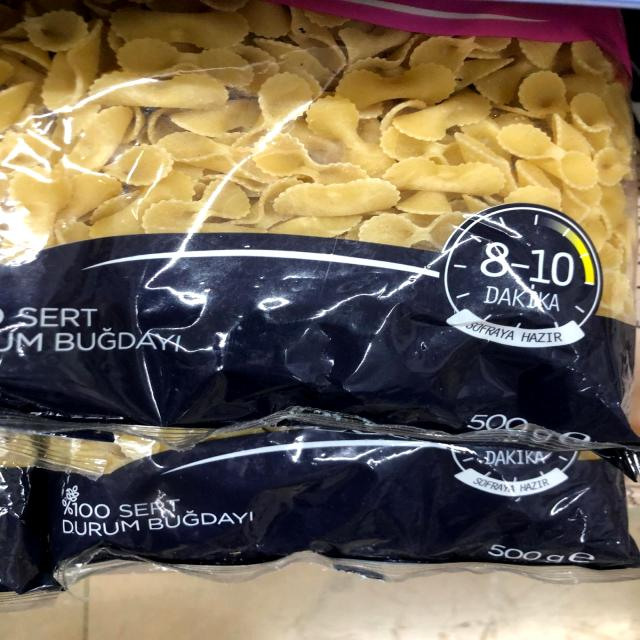farfalle pasta: (0, 1, 640, 442)
